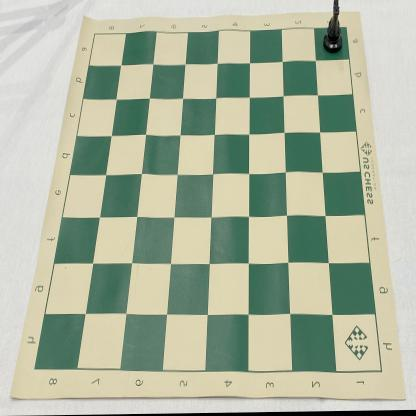black-knight: (324, 0, 344, 55)
